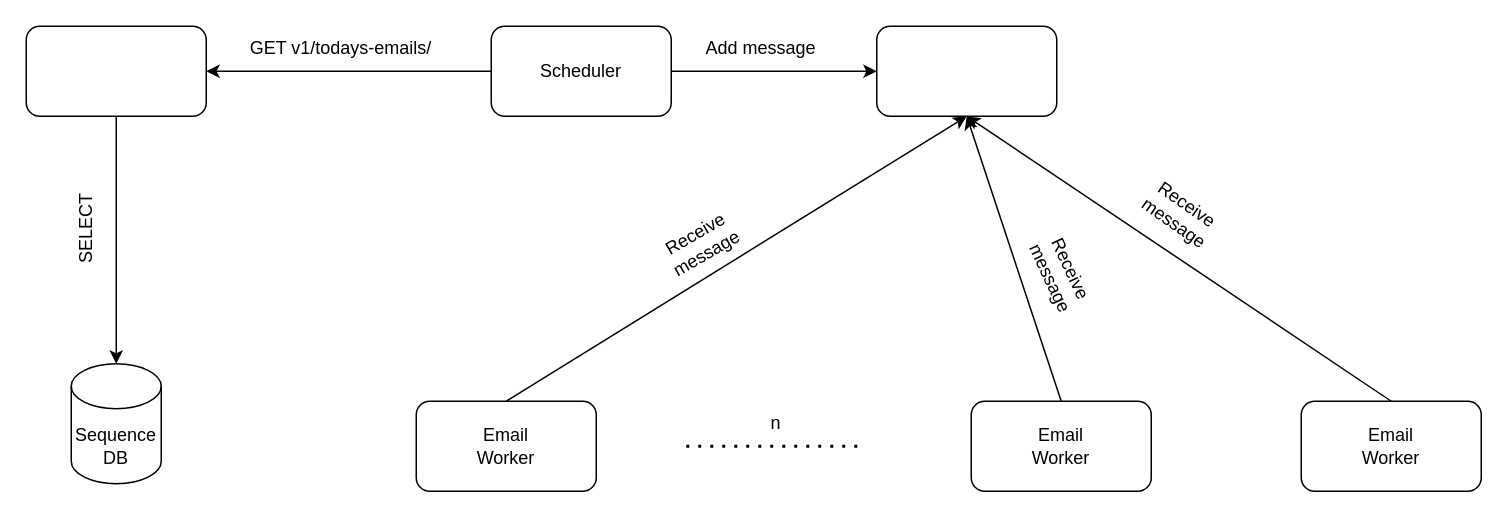
The diagram is 1508 pixels wide and 518 high, and some of its shapes have lost their labels. Each missing label, with the centre of its shape:
Message Queue: point 966,70
Sequence API: point 115,70
